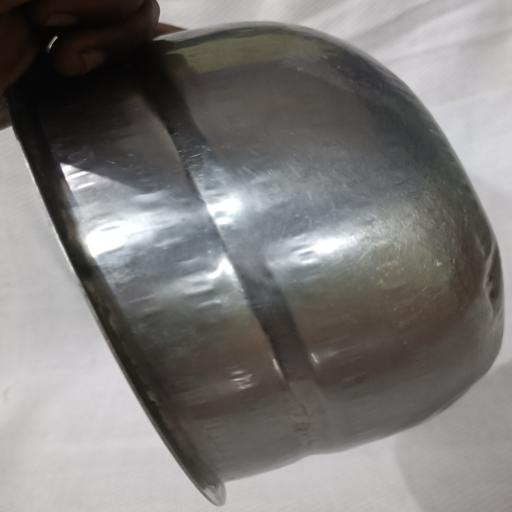vessel: (10, 24, 503, 504)
